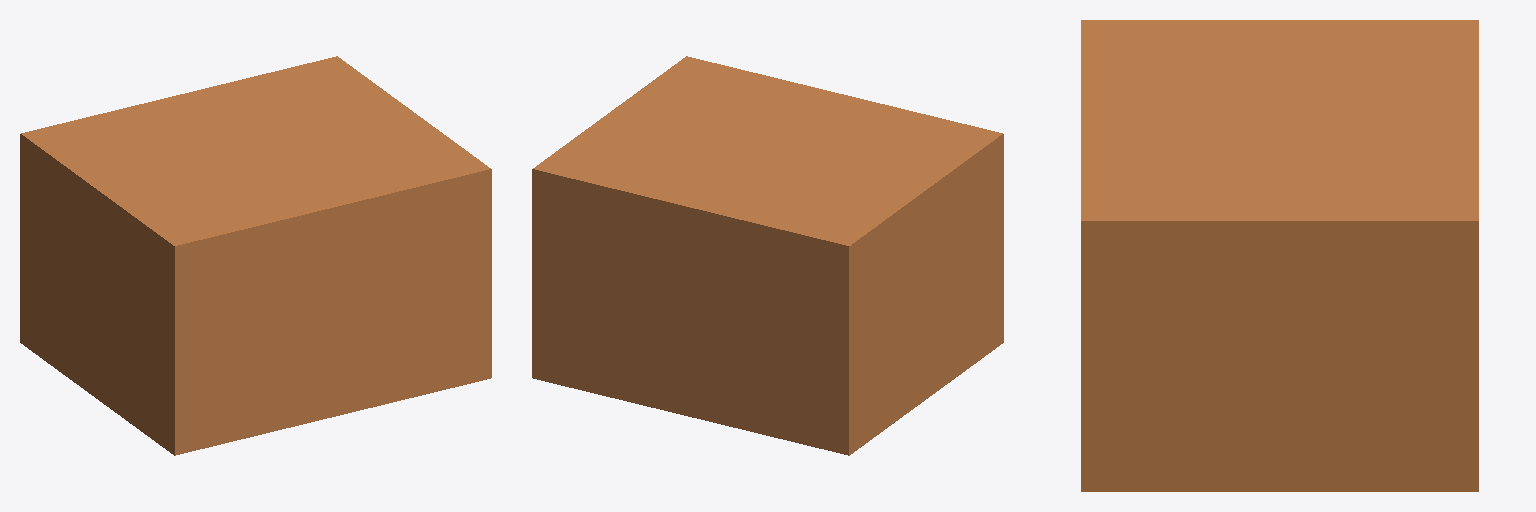
robot.urdf — table_blue_brush_sweep_forward:
<?xml version="1.0"?>
<robot name="table_blue_brush_sweep_forward">
  <link name="box">
    <visual>
      <material name="wood">
        <color rgba="0.82 0.56 0.35 1.0"/>
      </material>
      <origin xyz="0 0 0"/>
      <geometry>
        <box size="0.475 0.4 0.3"/>
      </geometry>
    </visual>
    <collision>
      <origin xyz="0 0 0"/>
      <geometry>
        <box size="0.475 0.4 0.3"/>
      </geometry>
    </collision>

    <inertial>
      <mass value="500"/>
      <friction value="1.0"/>
      <inertia ixx="1000.0" ixy="0.0" ixz="0.0" iyy="1000.0" iyz="0.0" izz="1000.0"/>
    </inertial>
  </link>
</robot>

--- Render facts (derived) ---
The picture shows the robot from 3 angles, left to right: view 1: azimuth 30°, elevation 25°; view 2: azimuth 150°, elevation 25°; view 3: azimuth 270°, elevation 25°; orthographic projection.
Model table_blue_brush_sweep_forward with 1 links and 0 joints (none), rooted at box, posed every joint at zero.
Links seen in each view (by area): view 1: box; view 2: box; view 3: box.
Boxes of the visible links, left/top/right/bottom form: box: left=20, top=56, right=491, bottom=455; box: left=532, top=56, right=1003, bottom=455; box: left=1081, top=20, right=1478, bottom=491.
Size in the robot's own frame: 0.475 by 0.4 by 0.3 metres.
Geometry: primitives only (box / cylinder / sphere), no mesh files.
